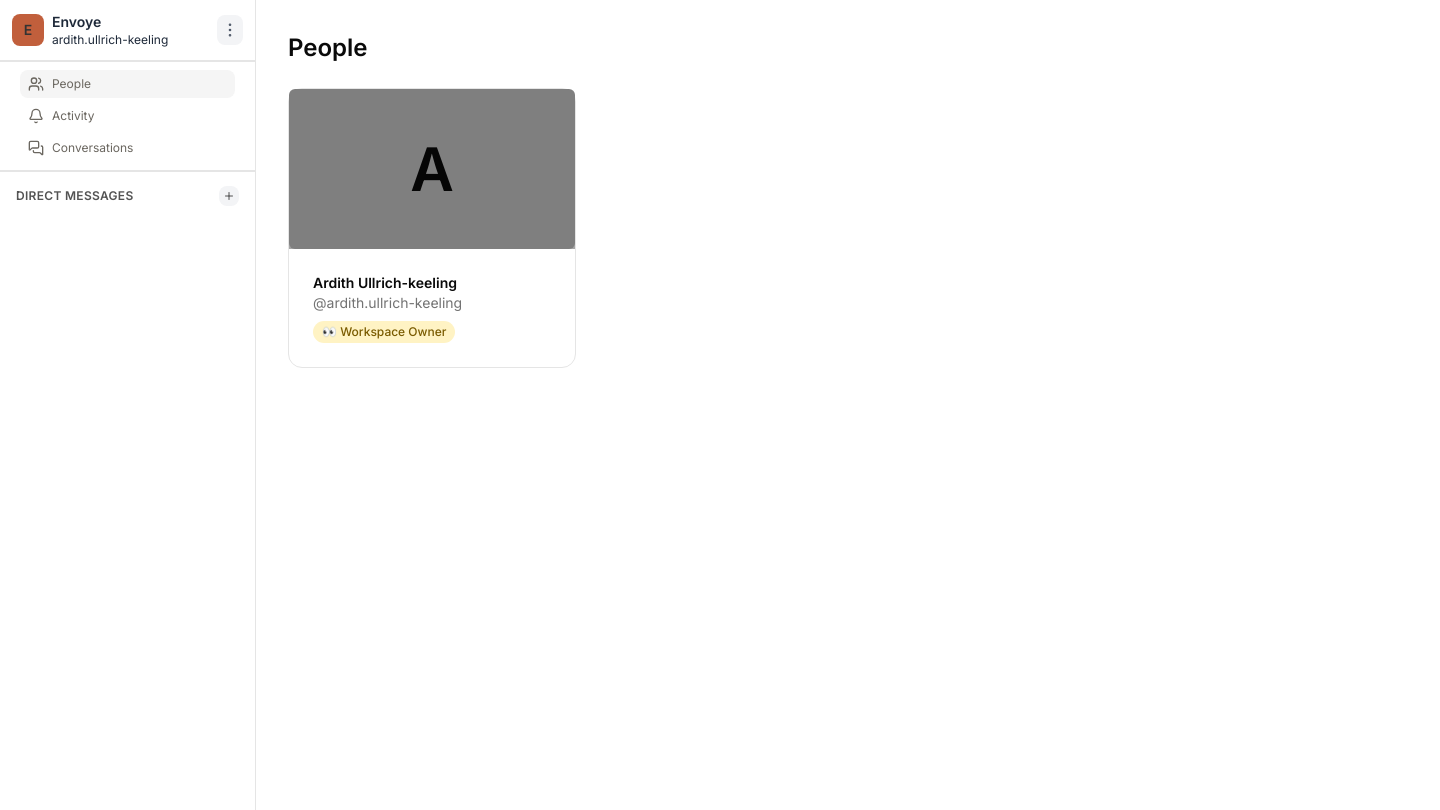
Invite Teammate › disables button when no teammate is invited
Click the button named "Workspace menu".
click(230, 30)  # box top-left (217, 15), bottom-right (243, 45)
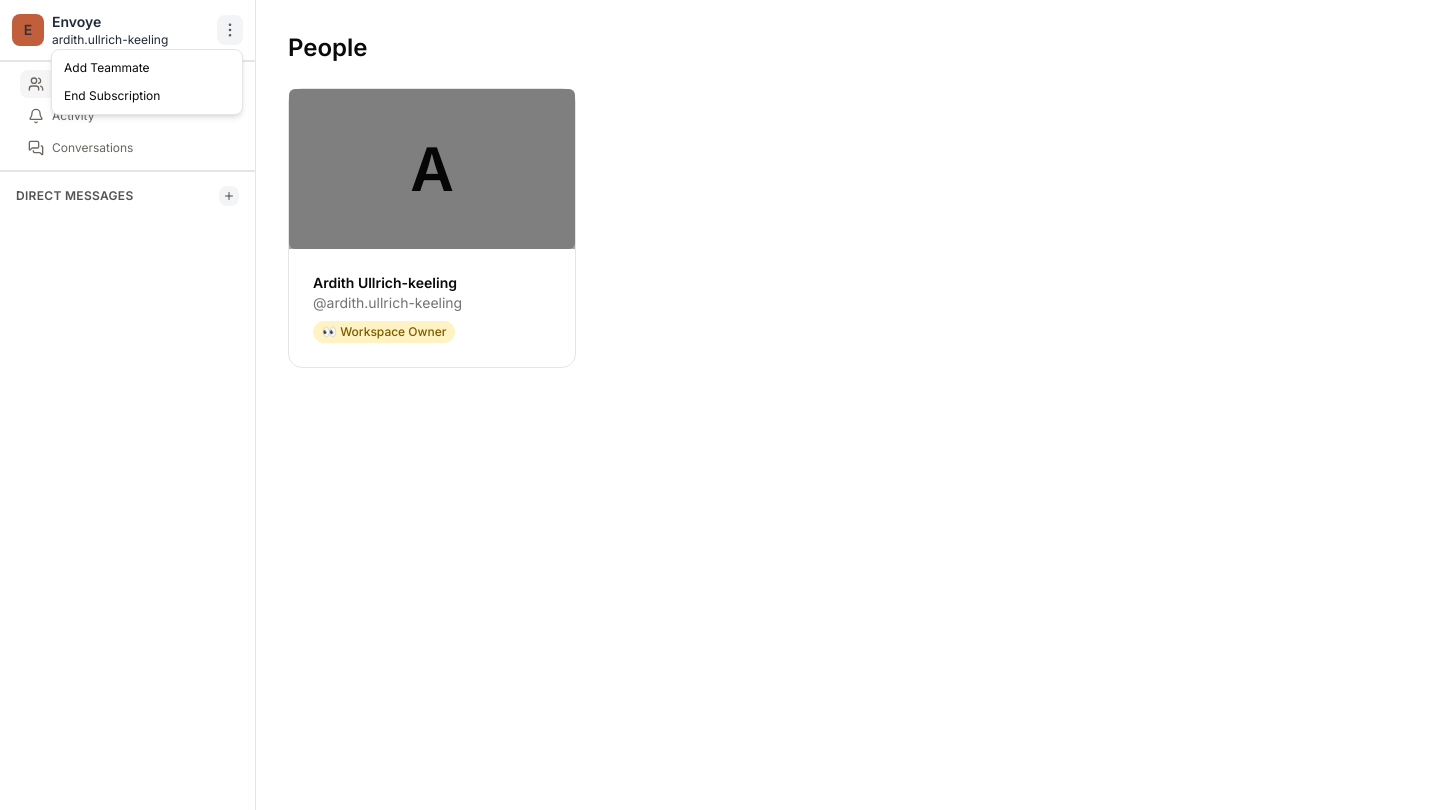
Click the menu item "Add Teammate".
click(107, 68)  # box top-left (64, 60), bottom-right (150, 75)
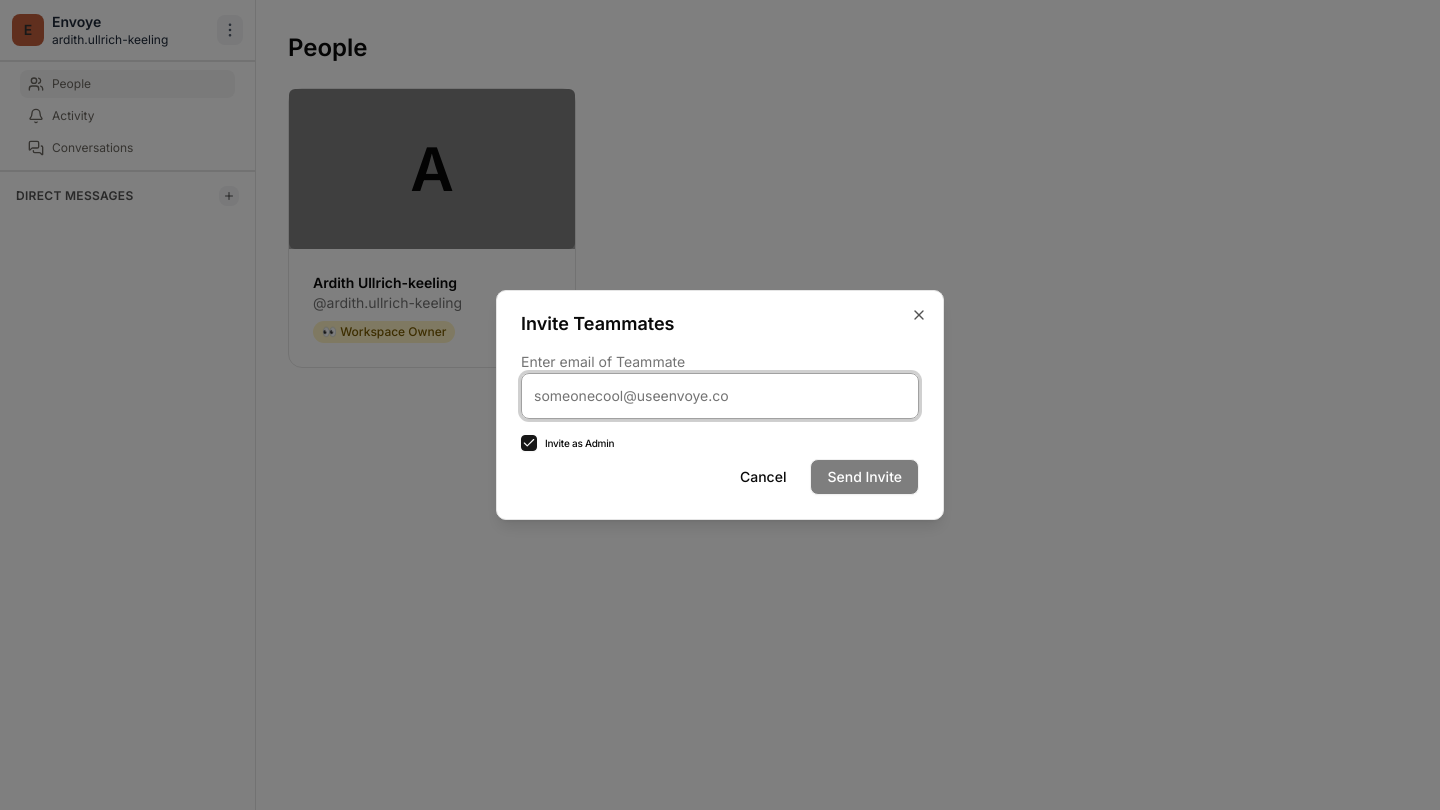
Expected: the button with test id "send-workspace-invite-button" is disabled, top-left (810, 459), bottom-right (919, 495)
